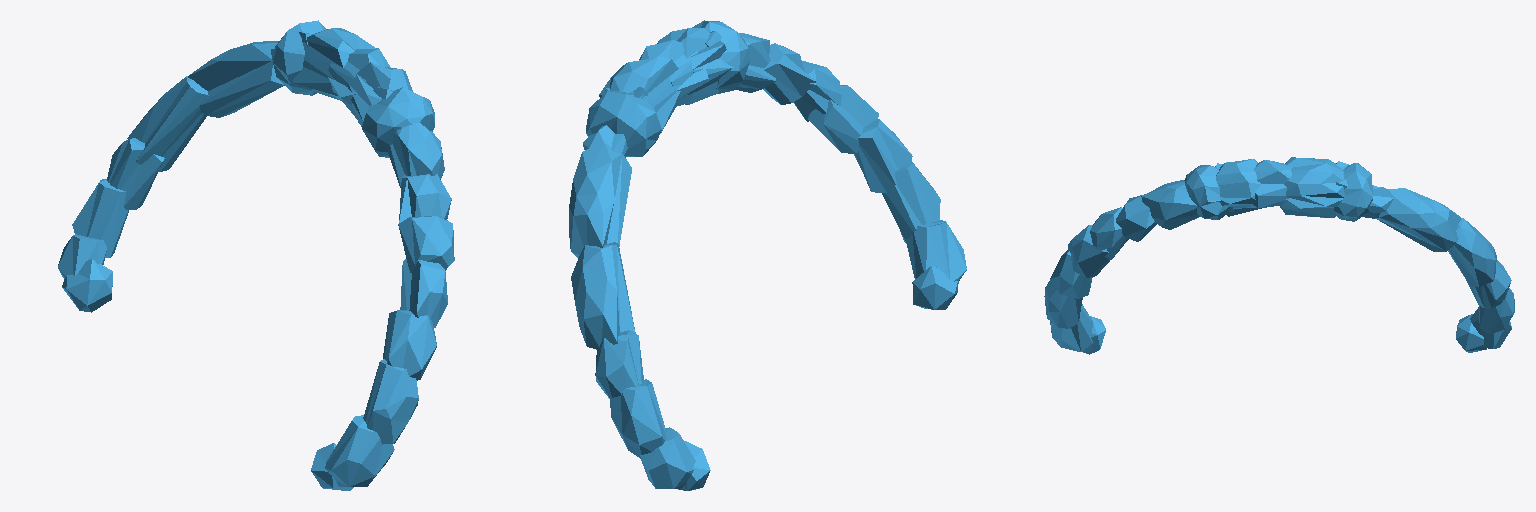
URDF robot description (partnet_8af56ea7-6625-4e2e-a2a2-8a72913fba7a):
<?xml version="1.0" ?><robot name="partnet_8af56ea7-6625-4e2e-a2a2-8a72913fba7a">
	<link name="base"/>
	<link name="link_0">
		<visual>
			<origin xyz="0 -0.5149909472446921 -0.0020186346583068587"/>
			<geometry>
				<mesh filename="new_objs/100462_link_0_5.obj"/>
			</geometry>
		</visual>
		<visual>
			<origin xyz="0 -0.5149909472446921 -0.0020186346583068587"/>
			<geometry>
				<mesh filename="new_objs/100462_link_0_7.obj"/>
			</geometry>
		</visual>
		<visual>
			<origin xyz="0 -0.5149909472446921 -0.0020186346583068587"/>
			<geometry>
				<mesh filename="new_objs/100462_link_0_11.obj"/>
			</geometry>
		</visual>
		<visual>
			<origin xyz="0 -0.5149909472446921 -0.0020186346583068587"/>
			<geometry>
				<mesh filename="new_objs/100462_link_0_10.obj"/>
			</geometry>
		</visual>
		<visual>
			<origin xyz="0 -0.5149909472446921 -0.0020186346583068587"/>
			<geometry>
				<mesh filename="new_objs/100462_link_0_21.obj"/>
			</geometry>
		</visual>
		<visual>
			<origin xyz="0 -0.5149909472446921 -0.0020186346583068587"/>
			<geometry>
				<mesh filename="new_objs/100462_link_0_3.obj"/>
			</geometry>
		</visual>
		<visual>
			<origin xyz="0 -0.5149909472446921 -0.0020186346583068587"/>
			<geometry>
				<mesh filename="new_objs/100462_link_0_9.obj"/>
			</geometry>
		</visual>
		<visual>
			<origin xyz="0 -0.5149909472446921 -0.0020186346583068587"/>
			<geometry>
				<mesh filename="new_objs/100462_link_0_18.obj"/>
			</geometry>
		</visual>
		<visual>
			<origin xyz="0 -0.5149909472446921 -0.0020186346583068587"/>
			<geometry>
				<mesh filename="new_objs/100462_link_0_17.obj"/>
			</geometry>
		</visual>
		<visual>
			<origin xyz="0 -0.5149909472446921 -0.0020186346583068587"/>
			<geometry>
				<mesh filename="new_objs/100462_link_0_13.obj"/>
			</geometry>
		</visual>
		<visual>
			<origin xyz="0 -0.5149909472446921 -0.0020186346583068587"/>
			<geometry>
				<mesh filename="new_objs/100462_link_0_16.obj"/>
			</geometry>
		</visual>
		<visual>
			<origin xyz="0 -0.5149909472446921 -0.0020186346583068587"/>
			<geometry>
				<mesh filename="new_objs/100462_link_0_12.obj"/>
			</geometry>
		</visual>
		<visual>
			<origin xyz="0 -0.5149909472446921 -0.0020186346583068587"/>
			<geometry>
				<mesh filename="new_objs/100462_link_0_15.obj"/>
			</geometry>
		</visual>
		<visual>
			<origin xyz="0 -0.5149909472446921 -0.0020186346583068587"/>
			<geometry>
				<mesh filename="new_objs/100462_link_0_0.obj"/>
			</geometry>
		</visual>
		<visual>
			<origin xyz="0 -0.5149909472446921 -0.0020186346583068587"/>
			<geometry>
				<mesh filename="new_objs/100462_link_0_20.obj"/>
			</geometry>
		</visual>
		<visual>
			<origin xyz="0 -0.5149909472446921 -0.0020186346583068587"/>
			<geometry>
				<mesh filename="new_objs/100462_link_0_2.obj"/>
			</geometry>
		</visual>
		<visual>
			<origin xyz="0 -0.5149909472446921 -0.0020186346583068587"/>
			<geometry>
				<mesh filename="new_objs/100462_link_0_14.obj"/>
			</geometry>
		</visual>
		<visual>
			<origin xyz="0 -0.5149909472446921 -0.0020186346583068587"/>
			<geometry>
				<mesh filename="new_objs/100462_link_0_8.obj"/>
			</geometry>
		</visual>
		<visual>
			<origin xyz="0 -0.5149909472446921 -0.0020186346583068587"/>
			<geometry>
				<mesh filename="new_objs/100462_link_0_1.obj"/>
			</geometry>
		</visual>
		<visual>
			<origin xyz="0 -0.5149909472446921 -0.0020186346583068587"/>
			<geometry>
				<mesh filename="new_objs/100462_link_0_19.obj"/>
			</geometry>
		</visual>
		<visual>
			<origin xyz="0 -0.5149909472446921 -0.0020186346583068587"/>
			<geometry>
				<mesh filename="new_objs/100462_link_0_4.obj"/>
			</geometry>
		</visual>
		<visual>
			<origin xyz="0 -0.5149909472446921 -0.0020186346583068587"/>
			<geometry>
				<mesh filename="new_objs/100462_link_0_6.obj"/>
			</geometry>
		</visual>
		
		
		
		<collision>
			<origin xyz="0 -0.5149909472446921 -0.0020186346583068587"/>
			<geometry>
				<mesh filename="new_objs/100462_link_0_5.obj"/>
			</geometry>
		</collision><collision>
			<origin xyz="0 -0.5149909472446921 -0.0020186346583068587"/>
			<geometry>
				<mesh filename="new_objs/100462_link_0_7.obj"/>
			</geometry>
		</collision><collision>
			<origin xyz="0 -0.5149909472446921 -0.0020186346583068587"/>
			<geometry>
				<mesh filename="new_objs/100462_link_0_11.obj"/>
			</geometry>
		</collision><collision>
			<origin xyz="0 -0.5149909472446921 -0.0020186346583068587"/>
			<geometry>
				<mesh filename="new_objs/100462_link_0_10.obj"/>
			</geometry>
		</collision><collision>
			<origin xyz="0 -0.5149909472446921 -0.0020186346583068587"/>
			<geometry>
				<mesh filename="new_objs/100462_link_0_21.obj"/>
			</geometry>
		</collision><collision>
			<origin xyz="0 -0.5149909472446921 -0.0020186346583068587"/>
			<geometry>
				<mesh filename="new_objs/100462_link_0_3.obj"/>
			</geometry>
		</collision><collision>
			<origin xyz="0 -0.5149909472446921 -0.0020186346583068587"/>
			<geometry>
				<mesh filename="new_objs/100462_link_0_9.obj"/>
			</geometry>
		</collision><collision>
			<origin xyz="0 -0.5149909472446921 -0.0020186346583068587"/>
			<geometry>
				<mesh filename="new_objs/100462_link_0_18.obj"/>
			</geometry>
		</collision><collision>
			<origin xyz="0 -0.5149909472446921 -0.0020186346583068587"/>
			<geometry>
				<mesh filename="new_objs/100462_link_0_17.obj"/>
			</geometry>
		</collision><collision>
			<origin xyz="0 -0.5149909472446921 -0.0020186346583068587"/>
			<geometry>
				<mesh filename="new_objs/100462_link_0_13.obj"/>
			</geometry>
		</collision><collision>
			<origin xyz="0 -0.5149909472446921 -0.0020186346583068587"/>
			<geometry>
				<mesh filename="new_objs/100462_link_0_16.obj"/>
			</geometry>
		</collision><collision>
			<origin xyz="0 -0.5149909472446921 -0.0020186346583068587"/>
			<geometry>
				<mesh filename="new_objs/100462_link_0_12.obj"/>
			</geometry>
		</collision><collision>
			<origin xyz="0 -0.5149909472446921 -0.0020186346583068587"/>
			<geometry>
				<mesh filename="new_objs/100462_link_0_15.obj"/>
			</geometry>
		</collision><collision>
			<origin xyz="0 -0.5149909472446921 -0.0020186346583068587"/>
			<geometry>
				<mesh filename="new_objs/100462_link_0_0.obj"/>
			</geometry>
		</collision><collision>
			<origin xyz="0 -0.5149909472446921 -0.0020186346583068587"/>
			<geometry>
				<mesh filename="new_objs/100462_link_0_20.obj"/>
			</geometry>
		</collision><collision>
			<origin xyz="0 -0.5149909472446921 -0.0020186346583068587"/>
			<geometry>
				<mesh filename="new_objs/100462_link_0_2.obj"/>
			</geometry>
		</collision><collision>
			<origin xyz="0 -0.5149909472446921 -0.0020186346583068587"/>
			<geometry>
				<mesh filename="new_objs/100462_link_0_14.obj"/>
			</geometry>
		</collision><collision>
			<origin xyz="0 -0.5149909472446921 -0.0020186346583068587"/>
			<geometry>
				<mesh filename="new_objs/100462_link_0_8.obj"/>
			</geometry>
		</collision><collision>
			<origin xyz="0 -0.5149909472446921 -0.0020186346583068587"/>
			<geometry>
				<mesh filename="new_objs/100462_link_0_1.obj"/>
			</geometry>
		</collision><collision>
			<origin xyz="0 -0.5149909472446921 -0.0020186346583068587"/>
			<geometry>
				<mesh filename="new_objs/100462_link_0_19.obj"/>
			</geometry>
		</collision><collision>
			<origin xyz="0 -0.5149909472446921 -0.0020186346583068587"/>
			<geometry>
				<mesh filename="new_objs/100462_link_0_4.obj"/>
			</geometry>
		</collision><collision>
			<origin xyz="0 -0.5149909472446921 -0.0020186346583068587"/>
			<geometry>
				<mesh filename="new_objs/100462_link_0_6.obj"/>
			</geometry>
		</collision></link>
	<joint name="joint_0" type="revolute">
		<origin xyz="0 0.5149909472446921 0.0020186346583068587"/>
		<axis xyz="-1 0 0"/>
		<child link="link_0"/>
		<parent link="link_1"/>
		<limit lower="1.050" upper="4.762654462842126"/>
	</joint>
	<link name="link_1">
		<collision>
			<origin xyz="0 0 0"/>
			<geometry>
				<mesh filename="new_objs/100462_link_1_6.obj"/>
			</geometry>
		</collision>
		<collision>
			<origin xyz="0 0 0"/>
			<geometry>
				<mesh filename="new_objs/100462_link_1_18.obj"/>
			</geometry>
		</collision>
		<collision>
			<origin xyz="0 0 0"/>
			<geometry>
				<mesh filename="new_objs/100462_link_1_25.obj"/>
			</geometry>
		</collision>
		<collision>
			<origin xyz="0 0 0"/>
			<geometry>
				<mesh filename="new_objs/100462_link_1_37.obj"/>
			</geometry>
		</collision>
		<collision>
			<origin xyz="0 0 0"/>
			<geometry>
				<mesh filename="new_objs/100462_link_1_36.obj"/>
			</geometry>
		</collision>
		<collision>
			<origin xyz="0 0 0"/>
			<geometry>
				<mesh filename="new_objs/100462_link_1_40.obj"/>
			</geometry>
		</collision>
		<collision>
			<origin xyz="0 0 0"/>
			<geometry>
				<mesh filename="new_objs/100462_link_1_35.obj"/>
			</geometry>
		</collision>
		<collision>
			<origin xyz="0 0 0"/>
			<geometry>
				<mesh filename="new_objs/100462_link_1_29.obj"/>
			</geometry>
		</collision>
		<collision>
			<origin xyz="0 0 0"/>
			<geometry>
				<mesh filename="new_objs/100462_link_1_10.obj"/>
			</geometry>
		</collision>
		<collision>
			<origin xyz="0 0 0"/>
			<geometry>
				<mesh filename="new_objs/100462_link_1_38.obj"/>
			</geometry>
		</collision>
		<collision>
			<origin xyz="0 0 0"/>
			<geometry>
				<mesh filename="new_objs/100462_link_1_28.obj"/>
			</geometry>
		</collision>
		<collision>
			<origin xyz="0 0 0"/>
			<geometry>
				<mesh filename="new_objs/100462_link_1_12.obj"/>
			</geometry>
		</collision>
		<collision>
			<origin xyz="0 0 0"/>
			<geometry>
				<mesh filename="new_objs/100462_link_1_30.obj"/>
			</geometry>
		</collision>
		<collision>
			<origin xyz="0 0 0"/>
			<geometry>
				<mesh filename="new_objs/100462_link_1_5.obj"/>
			</geometry>
		</collision>
		<collision>
			<origin xyz="0 0 0"/>
			<geometry>
				<mesh filename="new_objs/100462_link_1_27.obj"/>
			</geometry>
		</collision>
		<collision>
			<origin xyz="0 0 0"/>
			<geometry>
				<mesh filename="new_objs/100462_link_1_15.obj"/>
			</geometry>
		</collision>
		<collision>
			<origin xyz="0 0 0"/>
			<geometry>
				<mesh filename="new_objs/100462_link_1_39.obj"/>
			</geometry>
		</collision>
		<collision>
			<origin xyz="0 0 0"/>
			<geometry>
				<mesh filename="new_objs/100462_link_1_26.obj"/>
			</geometry>
		</collision>
		<collision>
			<origin xyz="0 0 0"/>
			<geometry>
				<mesh filename="new_objs/100462_link_1_21.obj"/>
			</geometry>
		</collision>
		<collision>
			<origin xyz="0 0 0"/>
			<geometry>
				<mesh filename="new_objs/100462_link_1_16.obj"/>
			</geometry>
		</collision>
		<collision>
			<origin xyz="0 0 0"/>
			<geometry>
				<mesh filename="new_objs/100462_link_1_24.obj"/>
			</geometry>
		</collision>
		<collision>
			<origin xyz="0 0 0"/>
			<geometry>
				<mesh filename="new_objs/100462_link_1_13.obj"/>
			</geometry>
		</collision>
		<collision>
			<origin xyz="0 0 0"/>
			<geometry>
				<mesh filename="new_objs/100462_link_1_32.obj"/>
			</geometry>
		</collision>
		<collision>
			<origin xyz="0 0 0"/>
			<geometry>
				<mesh filename="new_objs/100462_link_1_11.obj"/>
			</geometry>
		</collision>
		<collision>
			<origin xyz="0 0 0"/>
			<geometry>
				<mesh filename="new_objs/100462_link_1_20.obj"/>
			</geometry>
		</collision>
		<collision>
			<origin xyz="0 0 0"/>
			<geometry>
				<mesh filename="new_objs/100462_link_1_8.obj"/>
			</geometry>
		</collision>
		<collision>
			<origin xyz="0 0 0"/>
			<geometry>
				<mesh filename="new_objs/100462_link_1_3.obj"/>
			</geometry>
		</collision>
		<collision>
			<origin xyz="0 0 0"/>
			<geometry>
				<mesh filename="new_objs/100462_link_1_17.obj"/>
			</geometry>
		</collision>
		<collision>
			<origin xyz="0 0 0"/>
			<geometry>
				<mesh filename="new_objs/100462_link_1_14.obj"/>
			</geometry>
		</collision>
		<collision>
			<origin xyz="0 0 0"/>
			<geometry>
				<mesh filename="new_objs/100462_link_1_1.obj"/>
			</geometry>
		</collision>
		<collision>
			<origin xyz="0 0 0"/>
			<geometry>
				<mesh filename="new_objs/100462_link_1_31.obj"/>
			</geometry>
		</collision>
		<collision>
			<origin xyz="0 0 0"/>
			<geometry>
				<mesh filename="new_objs/100462_link_1_23.obj"/>
			</geometry>
		</collision>
		<collision>
			<origin xyz="0 0 0"/>
			<geometry>
				<mesh filename="new_objs/100462_link_1_33.obj"/>
			</geometry>
		</collision>
		<collision>
			<origin xyz="0 0 0"/>
			<geometry>
				<mesh filename="new_objs/100462_link_1_22.obj"/>
			</geometry>
		</collision>
		<collision>
			<origin xyz="0 0 0"/>
			<geometry>
				<mesh filename="new_objs/100462_link_1_4.obj"/>
			</geometry>
		</collision>
		<collision>
			<origin xyz="0 0 0"/>
			<geometry>
				<mesh filename="new_objs/100462_link_1_19.obj"/>
			</geometry>
		</collision>
		<collision>
			<origin xyz="0 0 0"/>
			<geometry>
				<mesh filename="new_objs/100462_link_1_9.obj"/>
			</geometry>
		</collision>
		<collision>
			<origin xyz="0 0 0"/>
			<geometry>
				<mesh filename="new_objs/100462_link_1_34.obj"/>
			</geometry>
		</collision>
		<collision>
			<origin xyz="0 0 0"/>
			<geometry>
				<mesh filename="new_objs/100462_link_1_7.obj"/>
			</geometry>
		</collision>
		<collision>
			<origin xyz="0 0 0"/>
			<geometry>
				<mesh filename="new_objs/100462_link_1_0.obj"/>
			</geometry>
		</collision>
		<collision>
			<origin xyz="0 0 0"/>
			<geometry>
				<mesh filename="new_objs/100462_link_1_2.obj"/>
			</geometry>
		</collision>
		<visual name="base_body-part[&quot;id]">
			<origin xyz="0 0 0"/>
			<geometry>
				<mesh filename="textured_objs/original-4.obj"/>
			</geometry>
		</visual>
		<visual name="base_body-part[&quot;id]">
			<origin xyz="0 0 0"/>
			<geometry>
				<mesh filename="textured_objs/original-3.obj"/>
			</geometry>
		</visual>
		<visual name="base_body-part[&quot;id]">
			<origin xyz="0 0 0"/>
			<geometry>
				<mesh filename="textured_objs/original-2.obj"/>
			</geometry>
		</visual>
		<visual name="base_body-part[&quot;id]">
			<origin xyz="0 0 0"/>
			<geometry>
				<mesh filename="textured_objs/original-16.obj"/>
			</geometry>
		</visual>
		<visual name="base_body-part[&quot;id]">
			<origin xyz="0 0 0"/>
			<geometry>
				<mesh filename="textured_objs/original-8.obj"/>
			</geometry>
		</visual>
		<visual name="base_body-part[&quot;id]">
			<origin xyz="0 0 0"/>
			<geometry>
				<mesh filename="textured_objs/original-13.obj"/>
			</geometry>
		</visual>
		<visual name="base_body-part[&quot;id]">
			<origin xyz="0 0 0"/>
			<geometry>
				<mesh filename="textured_objs/original-9.obj"/>
			</geometry>
		</visual>
		<visual name="base_body-part[&quot;id]">
			<origin xyz="0 0 0"/>
			<geometry>
				<mesh filename="textured_objs/original-5.obj"/>
			</geometry>
		</visual>
		<visual name="base_body-part[&quot;id]">
			<origin xyz="0 0 0"/>
			<geometry>
				<mesh filename="textured_objs/original-6.obj"/>
			</geometry>
		</visual>
		<visual name="base_body-part[&quot;id]">
			<origin xyz="0 0 0"/>
			<geometry>
				<mesh filename="textured_objs/original-15.obj"/>
			</geometry>
		</visual>
		<visual name="base_body-part[&quot;id]">
			<origin xyz="0 0 0"/>
			<geometry>
				<mesh filename="textured_objs/original-11.obj"/>
			</geometry>
		</visual>
		<visual name="base_body-part[&quot;id]">
			<origin xyz="0 0 0"/>
			<geometry>
				<mesh filename="textured_objs/original-12.obj"/>
			</geometry>
		</visual>
		<visual name="base_body-part[&quot;id]">
			<origin xyz="0 0 0"/>
			<geometry>
				<mesh filename="textured_objs/original-7.obj"/>
			</geometry>
		</visual>
		<visual name="base_body-part[&quot;id]">
			<origin xyz="0 0 0"/>
			<geometry>
				<mesh filename="textured_objs/original-10.obj"/>
			</geometry>
		</visual>
		<visual name="base_body-part[&quot;id]">
			<origin xyz="0 0 0"/>
			<geometry>
				<mesh filename="textured_objs/original-14.obj"/>
			</geometry>
		</visual>
		</link>
	<joint name="joint_1" type="fixed">
		<origin rpy="1.570796326794897 0 -1.570796326794897" xyz="0 0 0"/>
		<child link="link_1"/>
		<parent link="base"/>
	</joint>
</robot>

--- What the picture shows (computed from the rendered views, not written in the file) ---
Views: 3 orthographic renders of the robot side by side, from view 1: azimuth 30°, elevation 25°; view 2: azimuth 150°, elevation 25°; view 3: azimuth 270°, elevation 25°.
Robot: partnet_8af56ea7-6625-4e2e-a2a2-8a72913fba7a — 3 links, 2 joints (1 revolute, 1 fixed); root link base; default pose: joints at zero except 1 at the middle of their limits (joint_0 = 2.91).
Links seen in each view (by area): view 1: link_0; view 2: link_0; view 3: link_0.
Boxes of the visible links, bbox=[...] form: link_0: bbox=[58, 20, 454, 490]; link_0: bbox=[569, 20, 966, 490]; link_0: bbox=[1044, 157, 1514, 354].
Size in the robot's own frame: 0.5908 by 1.52 by 0.888 metres.
22 mesh visuals loaded from 37 distinct referenced files (22 OBJ); not drawn: 15 (reference not matched to a file when rendering).
